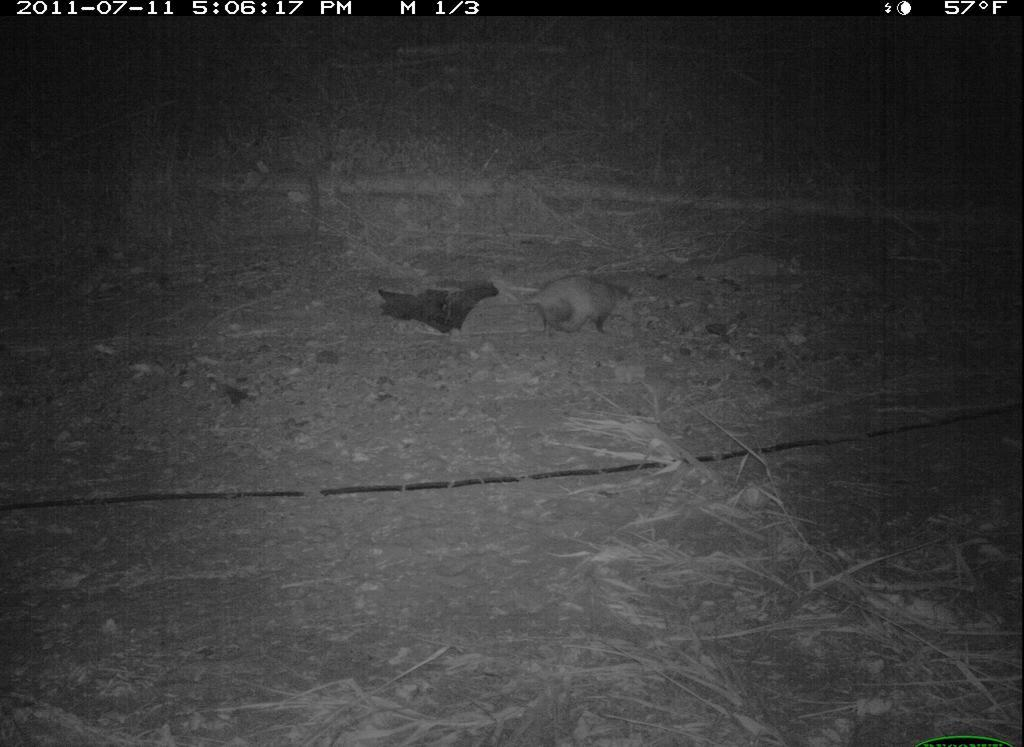opossum: (477, 269, 638, 335)
